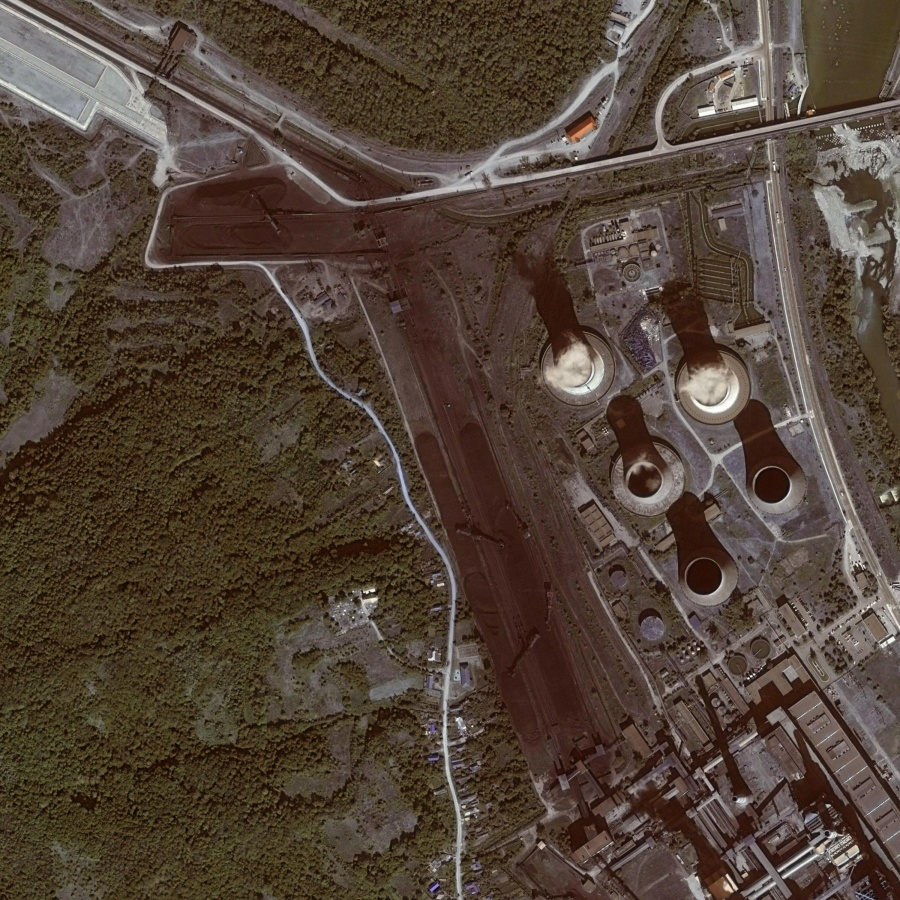PowerPlant: (379, 208, 819, 752)
